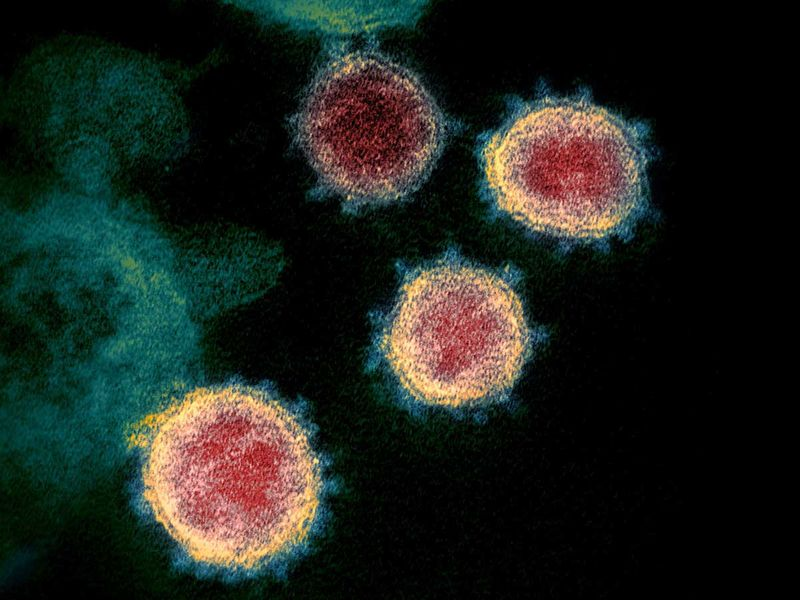COVID19: (116, 372, 380, 590), (360, 237, 592, 428), (475, 65, 671, 251), (282, 38, 469, 211)
